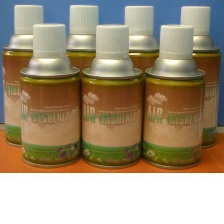aerosol_cans: (138, 20, 207, 172), (77, 22, 147, 170), (16, 20, 83, 169), (49, 0, 114, 150), (104, 0, 169, 150), (159, 0, 222, 152), (0, 2, 60, 149)
